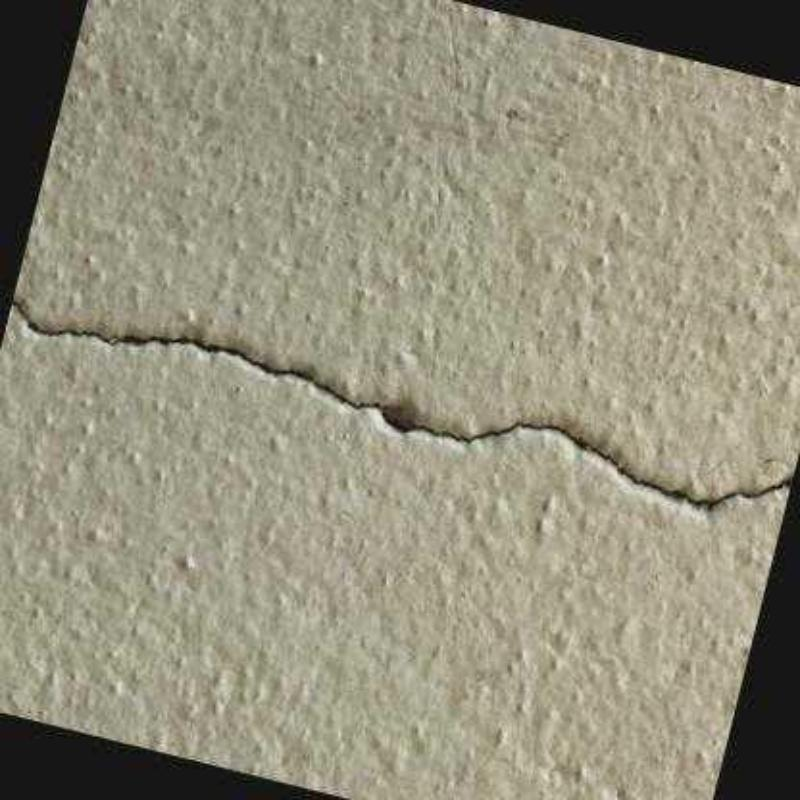crack: (11, 296, 793, 514)
